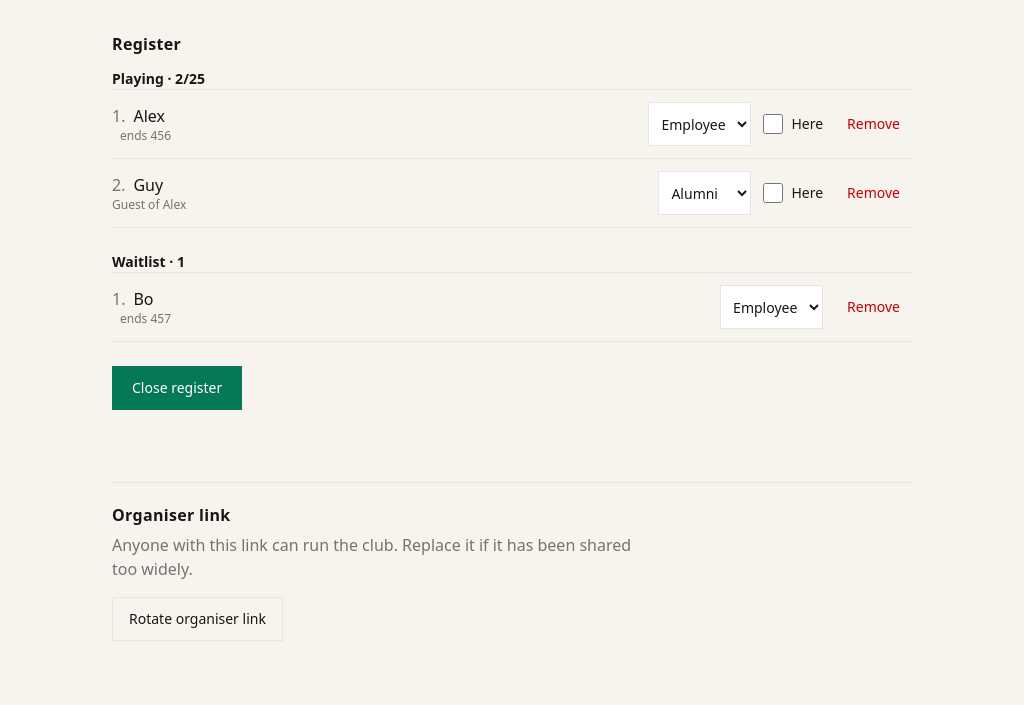
rotating the Organiser link › shows the new link once, with a warning, and not again
The width and height of the screenshot is (1024, 705).
(page scrolled)
What coordinates should you click on to do the following:
click the button "Rotate organiser link"
I would click on:
 (197, 619)
Its box is [112, 597, 283, 641].
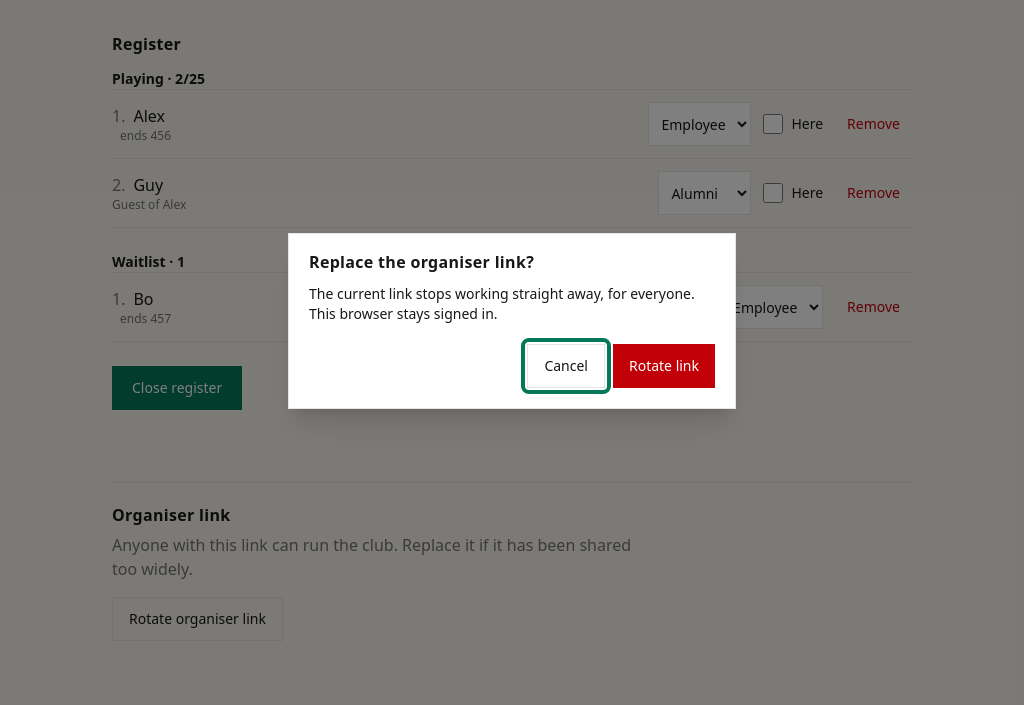
What coordinates should you click on to do the following:
click the button "Rotate link"
I would click on:
 (664, 366)
Its box is [613, 344, 715, 388].
(page scrolled)
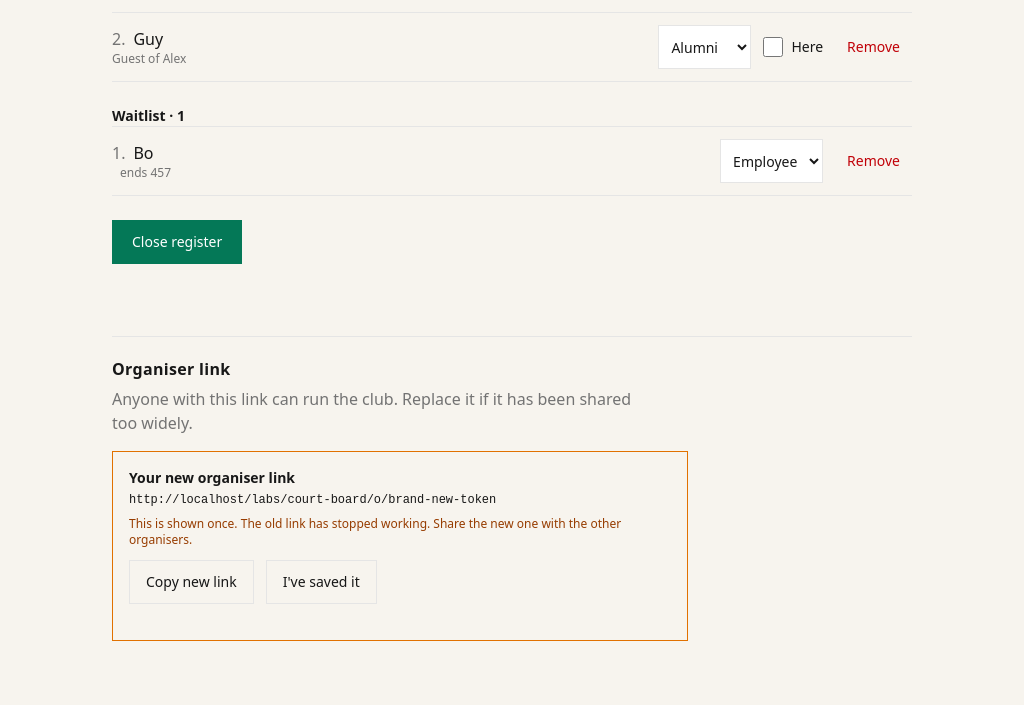
Check: the text "old link has stopped working" is shown, box [129, 515, 621, 548]
What coordinates should you click on to do the following:
click the button "Copy new link"
I would click on:
 (191, 582)
Its box is [129, 560, 254, 604].
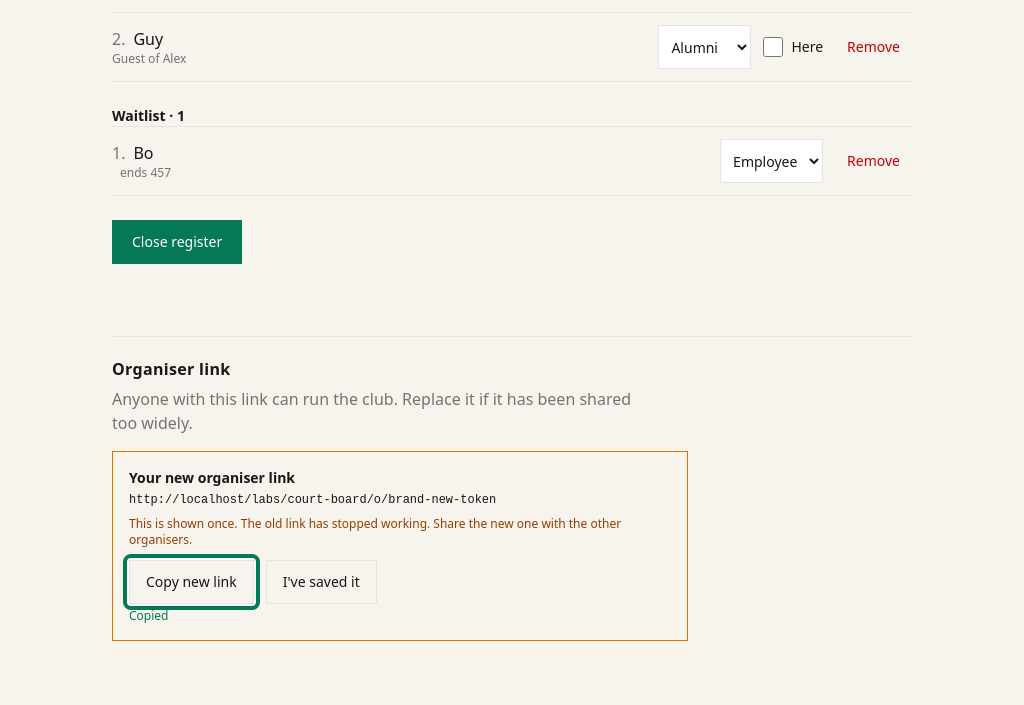
What coordinates should you click on to do the following:
click the button "I've saved it"
I would click on:
 (321, 582)
Its box is [266, 560, 377, 604].
(page scrolled)
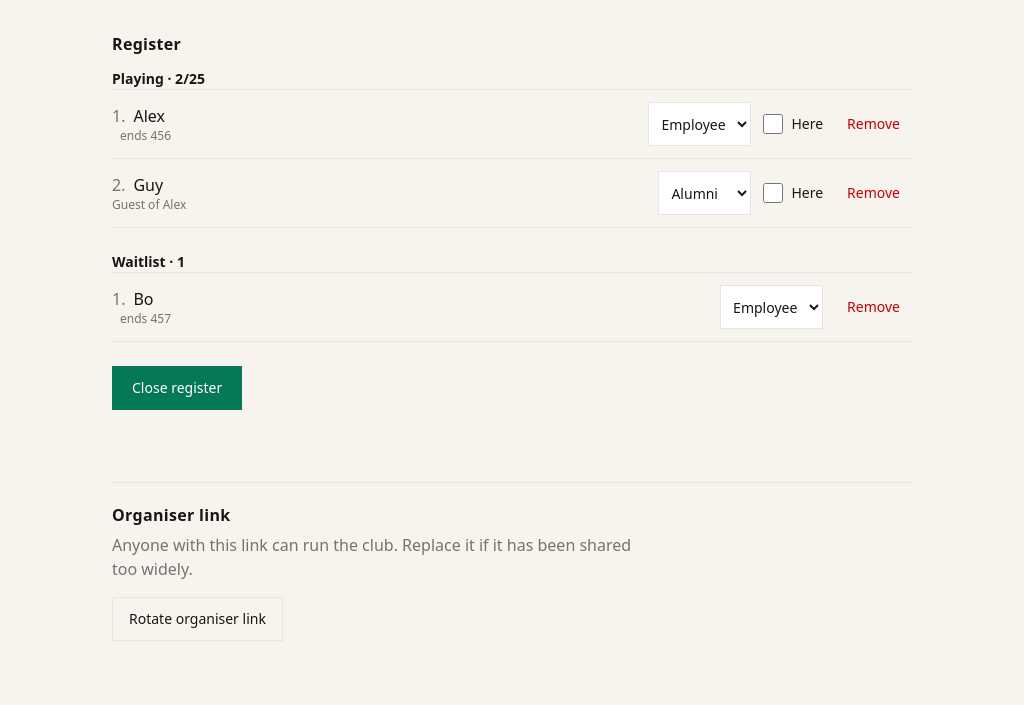
Check: the button "Rotate organiser link" is shown, box [112, 597, 283, 641]
